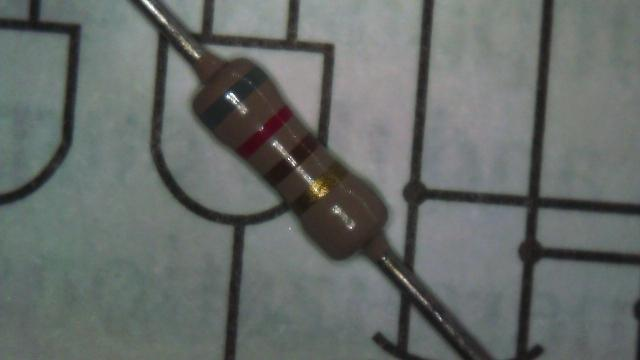brown: (264, 134, 320, 185)
gold: (291, 163, 346, 214)
grey: (198, 64, 267, 130)
red: (235, 105, 292, 158)
resistor: (150, 14, 411, 278)
